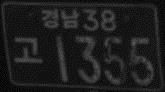1: (51, 37, 70, 83)
3: (75, 36, 100, 83), (82, 8, 99, 32)
5: (129, 37, 154, 86), (104, 37, 127, 85)
8: (100, 10, 116, 31)
경남_O: (40, 8, 79, 28)
고: (12, 36, 42, 64)
